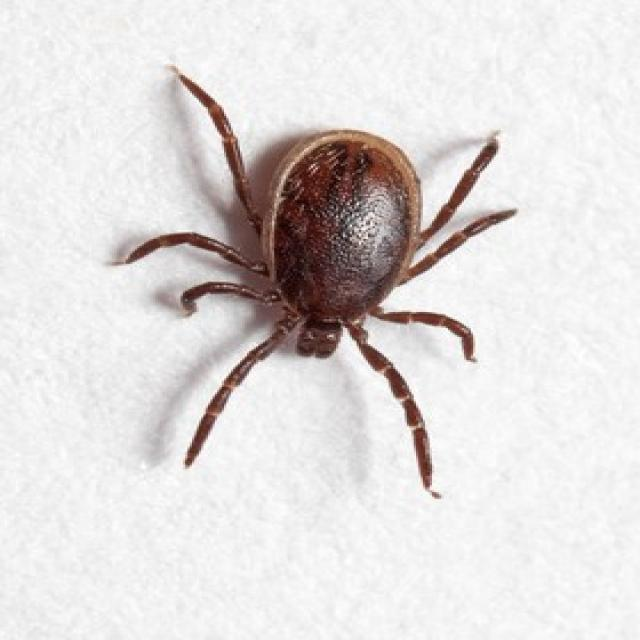Ixodes Ricinus-M: (110, 70, 517, 497)
